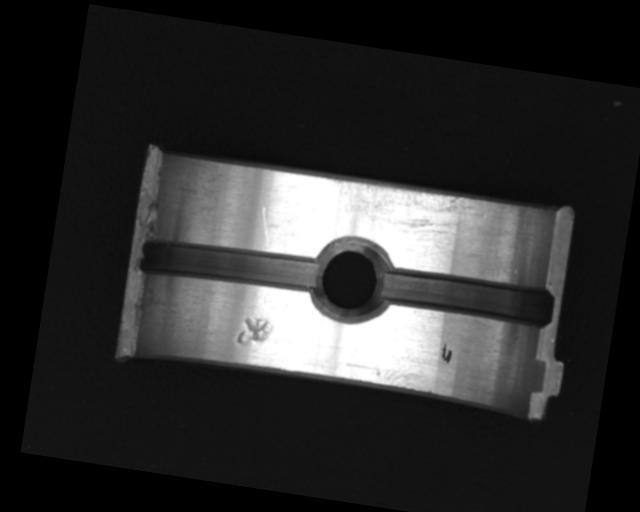blot: (438, 341, 453, 366)
bruise: (234, 313, 275, 351)
gap: (137, 231, 323, 302), (375, 264, 555, 330)
hole: (304, 232, 398, 328)
nick: (255, 206, 276, 251)
scratch: (320, 174, 492, 246)
